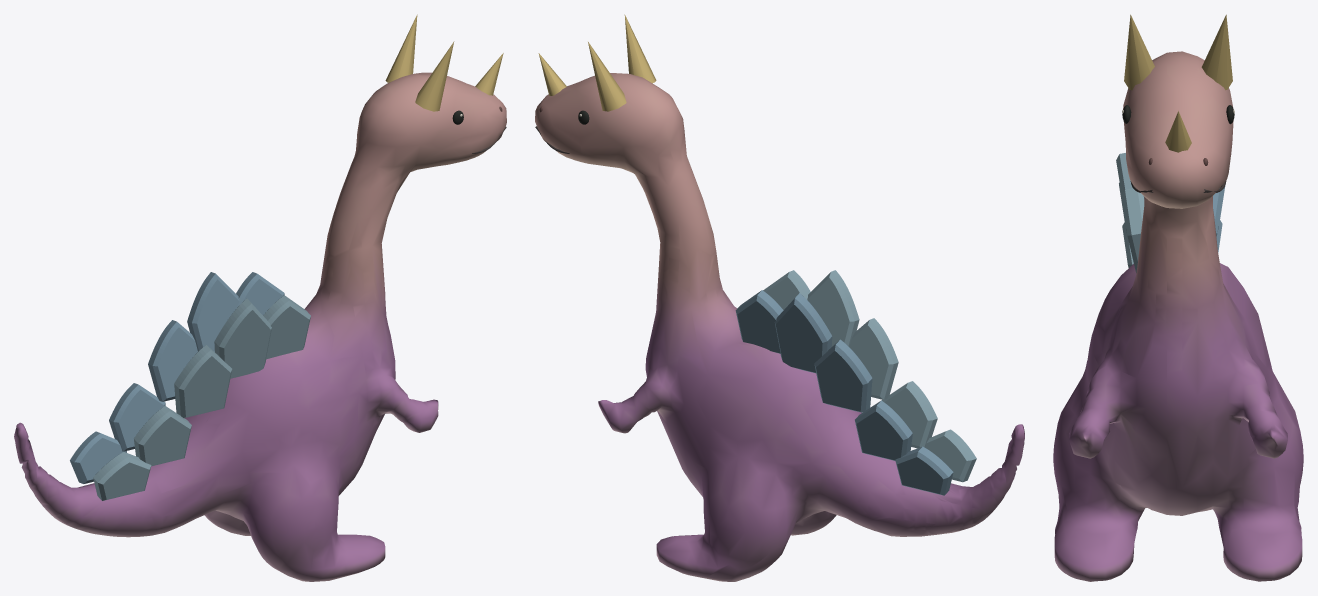
File: aiven-chimera.glb
3 views of the same model, side by side, from view 1: azimuth 30°, elevation 25°; view 2: azimuth 150°, elevation 25°; view 3: azimuth 270°, elevation 25° (orthographic). The views are drawn at different scales.
Visible parts, largest first — view 1: clay-toy; view 2: clay-toy; view 3: clay-toy.
Part boxes in pixels (<box>): clay-toy: <box>14,14,506,581</box>; clay-toy: <box>535,14,1024,581</box>; clay-toy: <box>1053,14,1303,581</box>.
Size of the model in its own units: 3.81 by 3.66 by 1.31.
